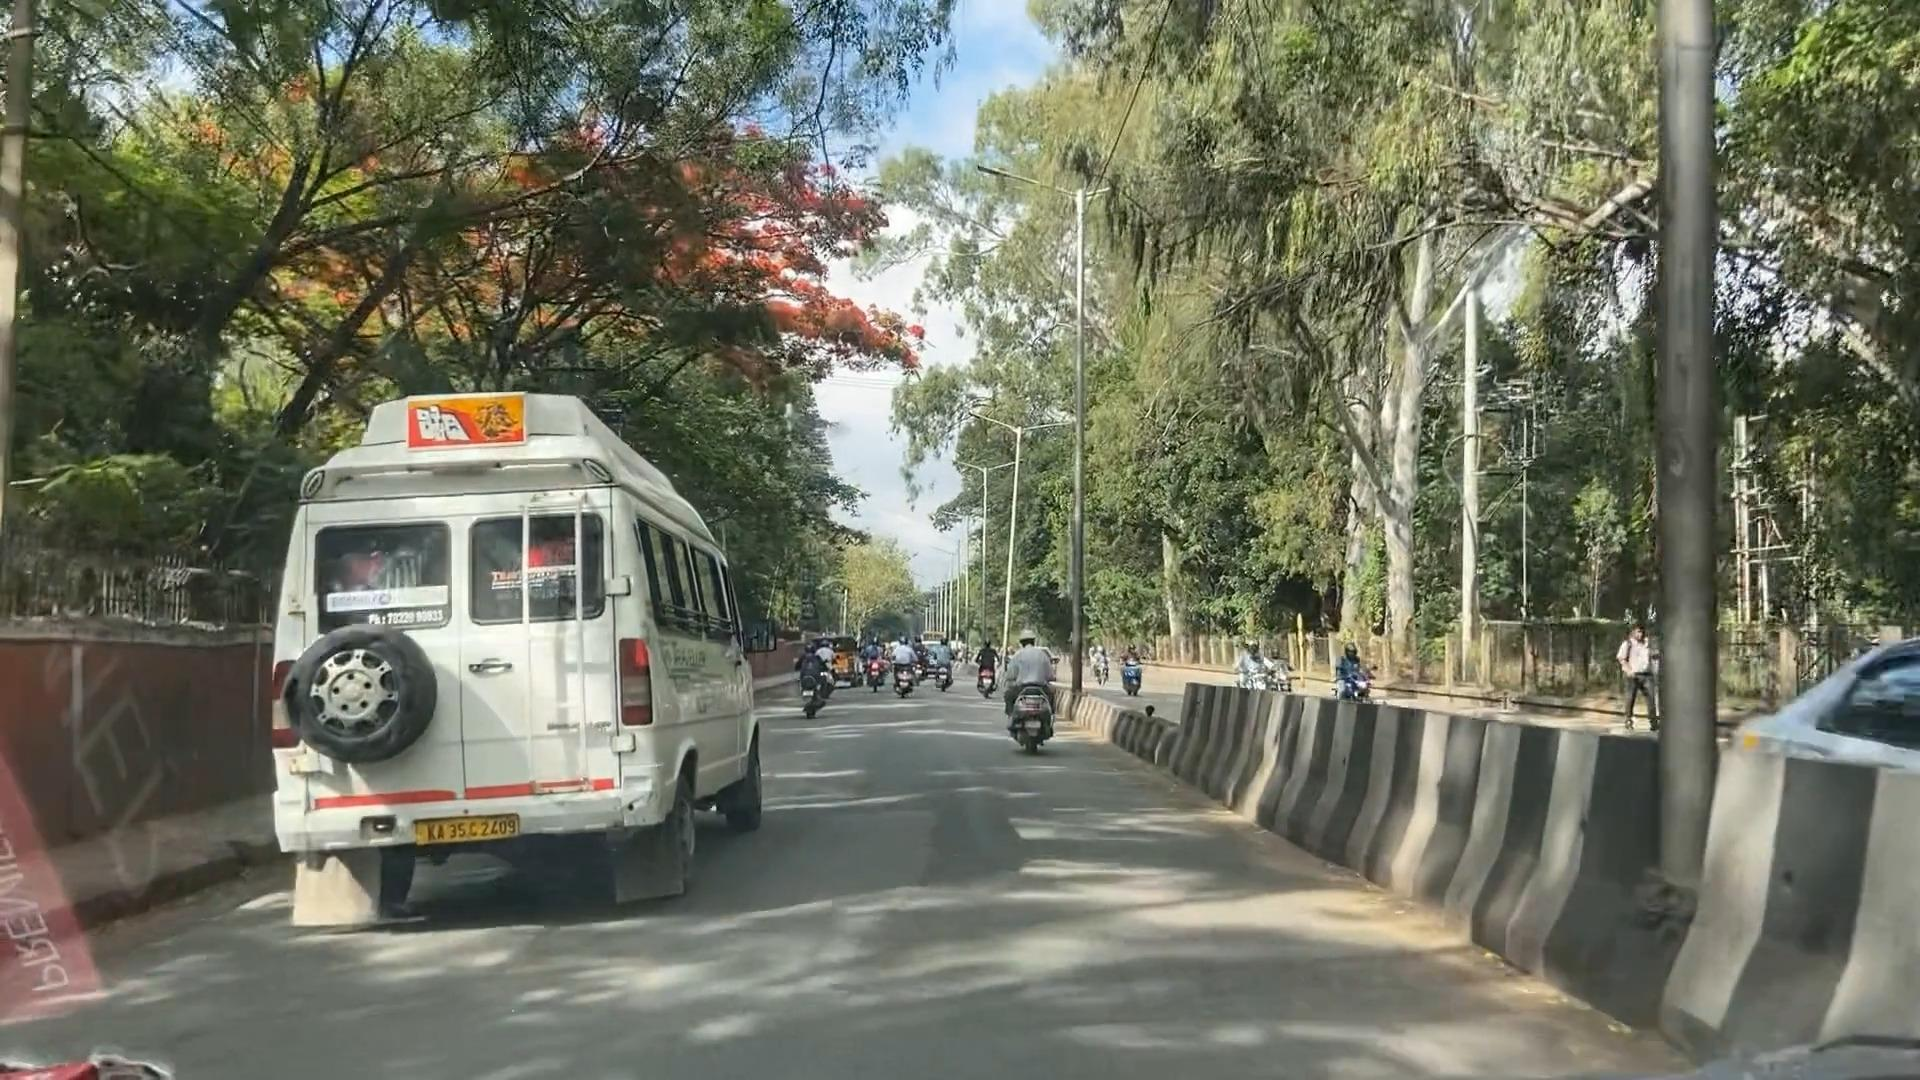HMV: (287, 378, 777, 939)
